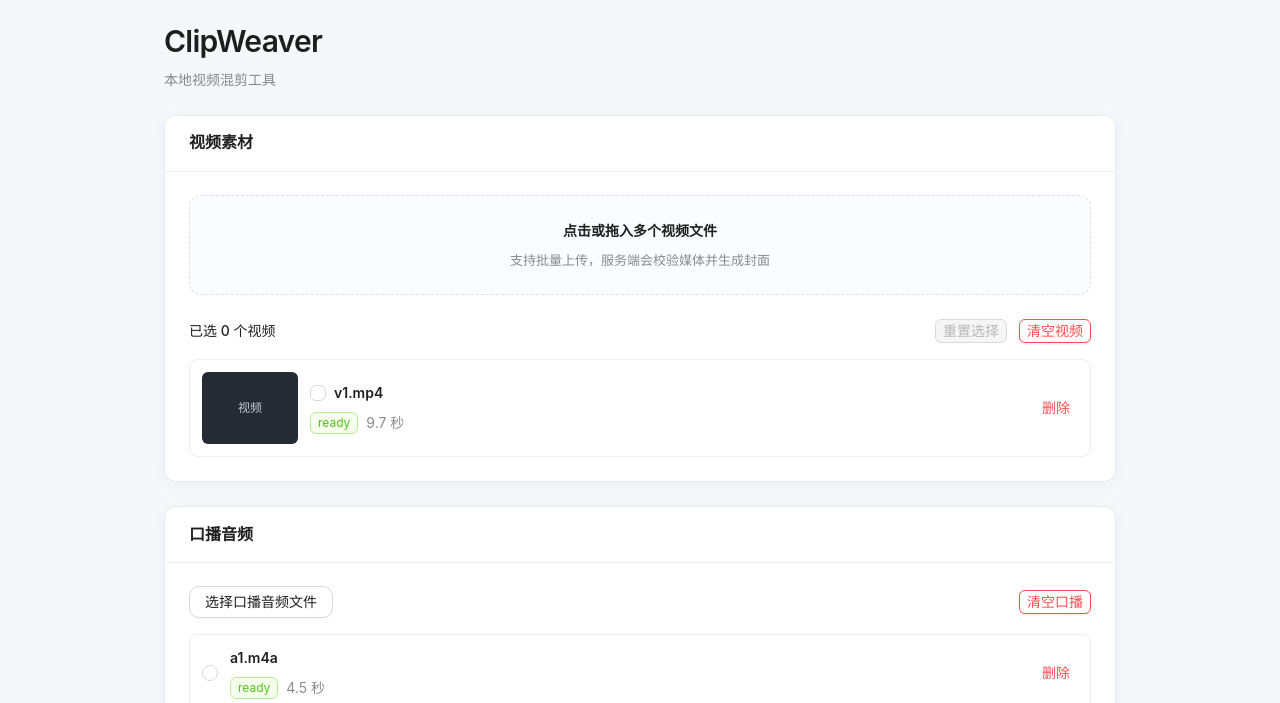
Test: deleting selected audio clears selection, mix result and mix error
This screenshot has width=1280, height=703.
Click the checkbox named "选择视频 v1.mp4". click: (318, 393)
box: [310,382,326,404]
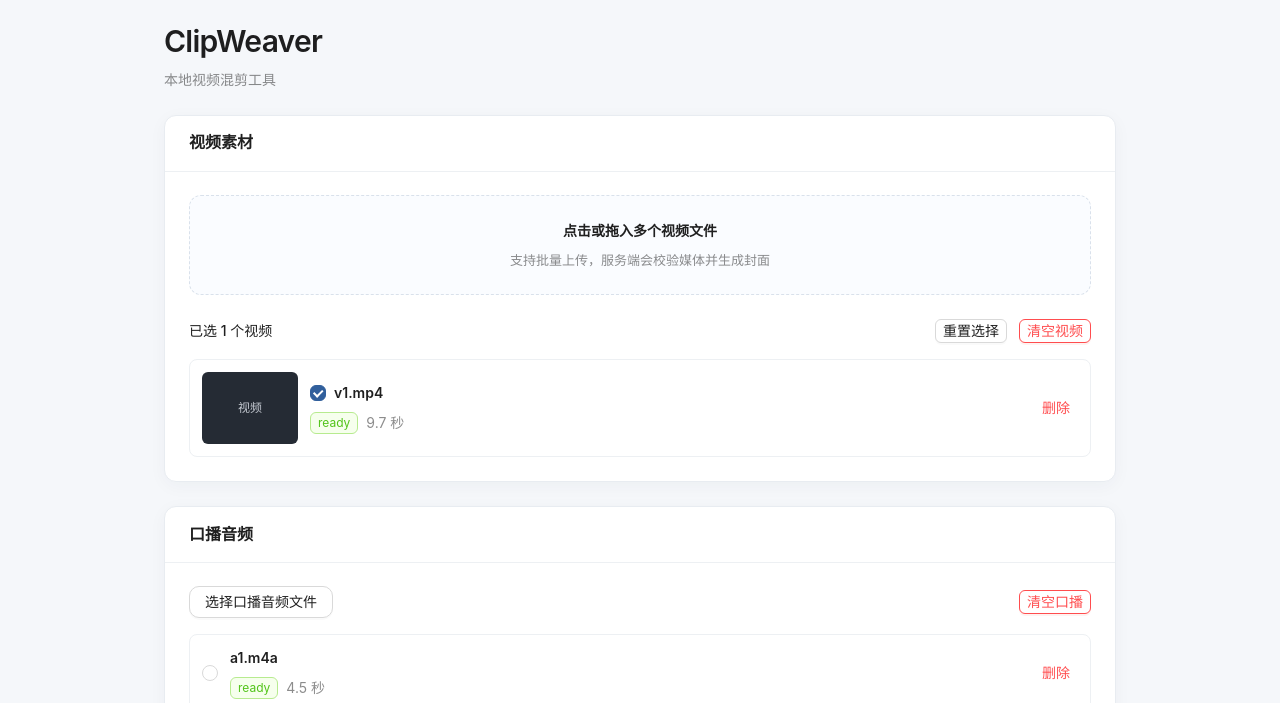
Click the radio button named "选择口播 a1.m4a". click: (210, 673)
box: [202,662,218,684]
(page scrolled)
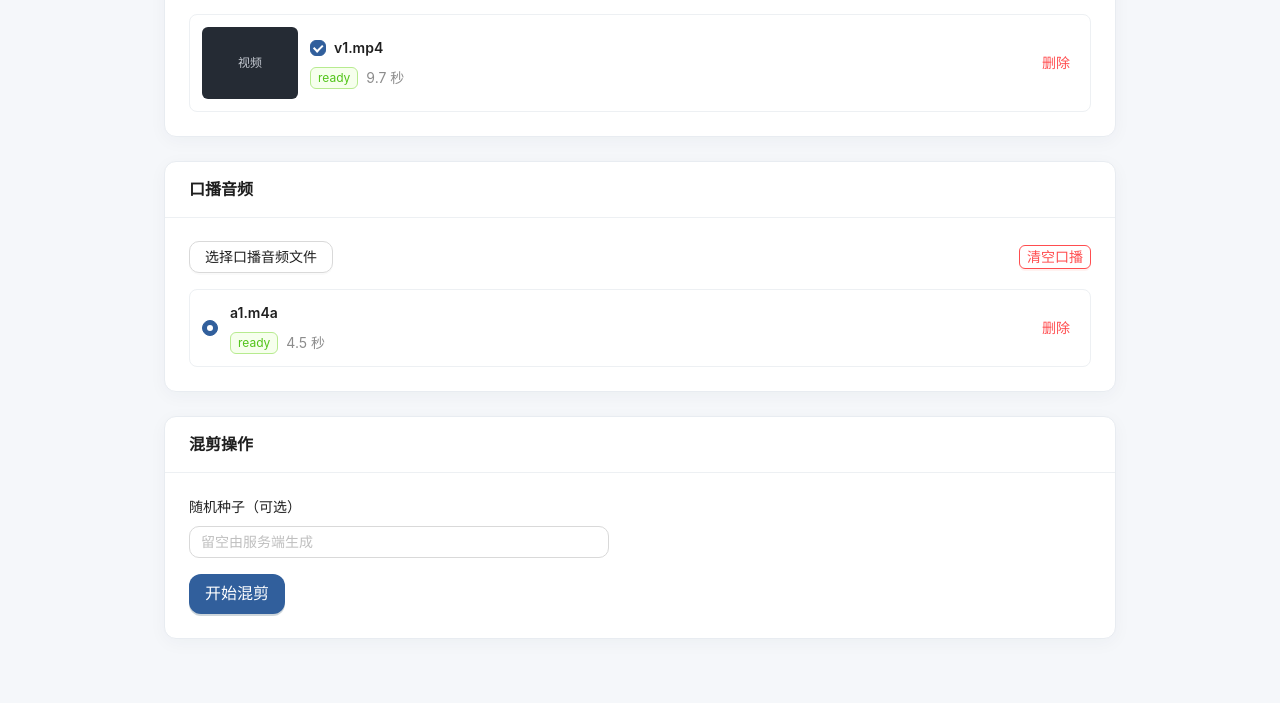
Click the button "开始混剪". click: (237, 594)
box: [189,574,285,614]
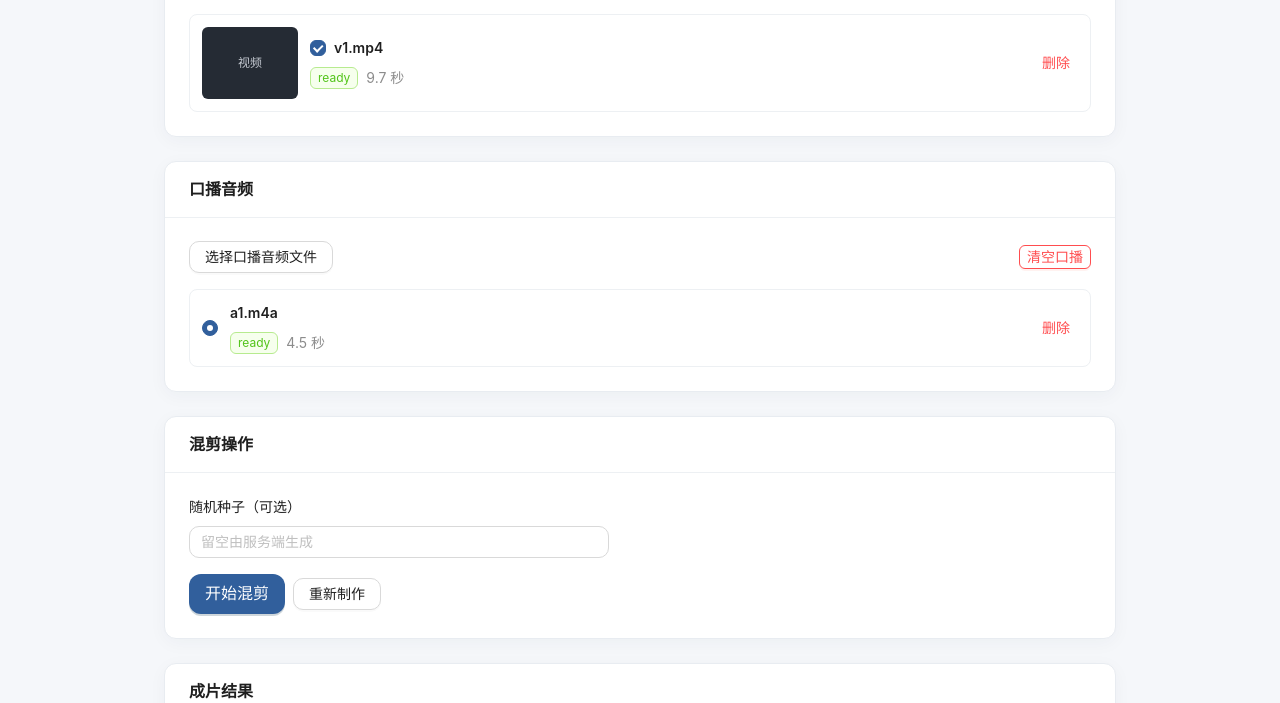
Click the button "重新制作". click: (337, 594)
box: [293,578,381,610]
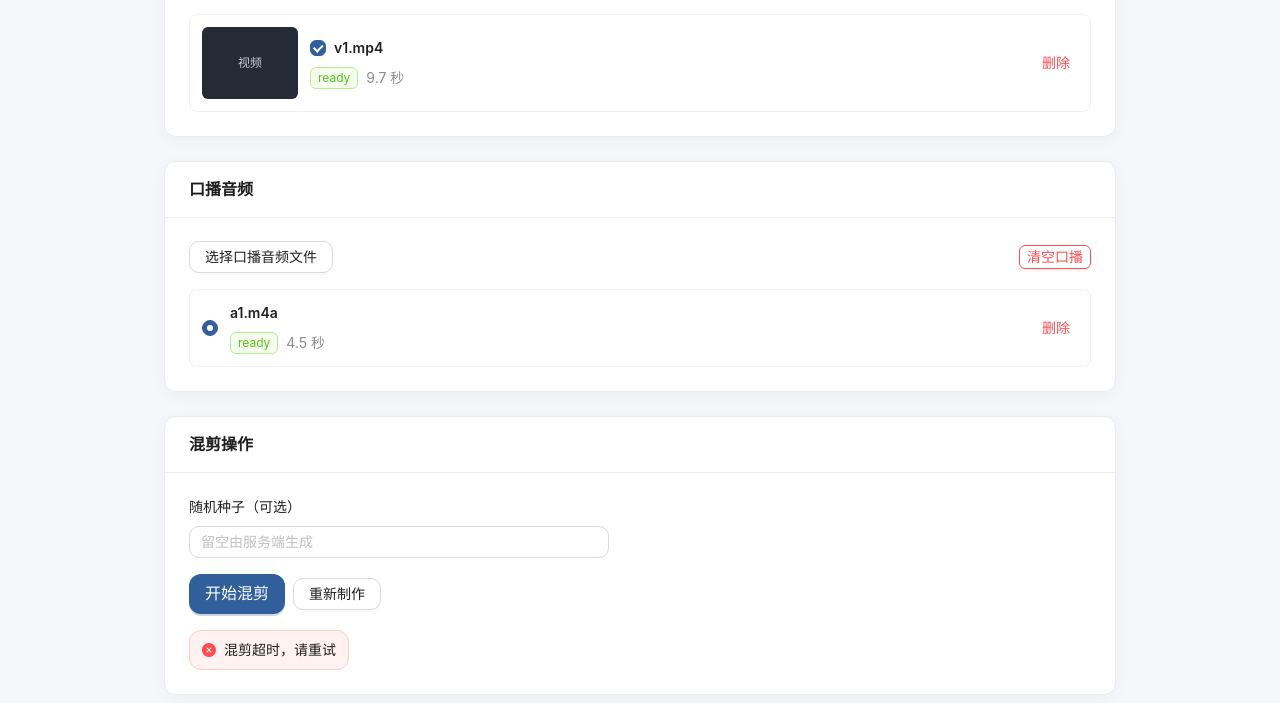
Expected: the text "混剪超时，请重试" is shown, [224,639,336,661]
Click the button with aria-label "删除口播 a1.m4a". click: (1056, 328)
box: [1034,316,1078,340]
(page scrolled)
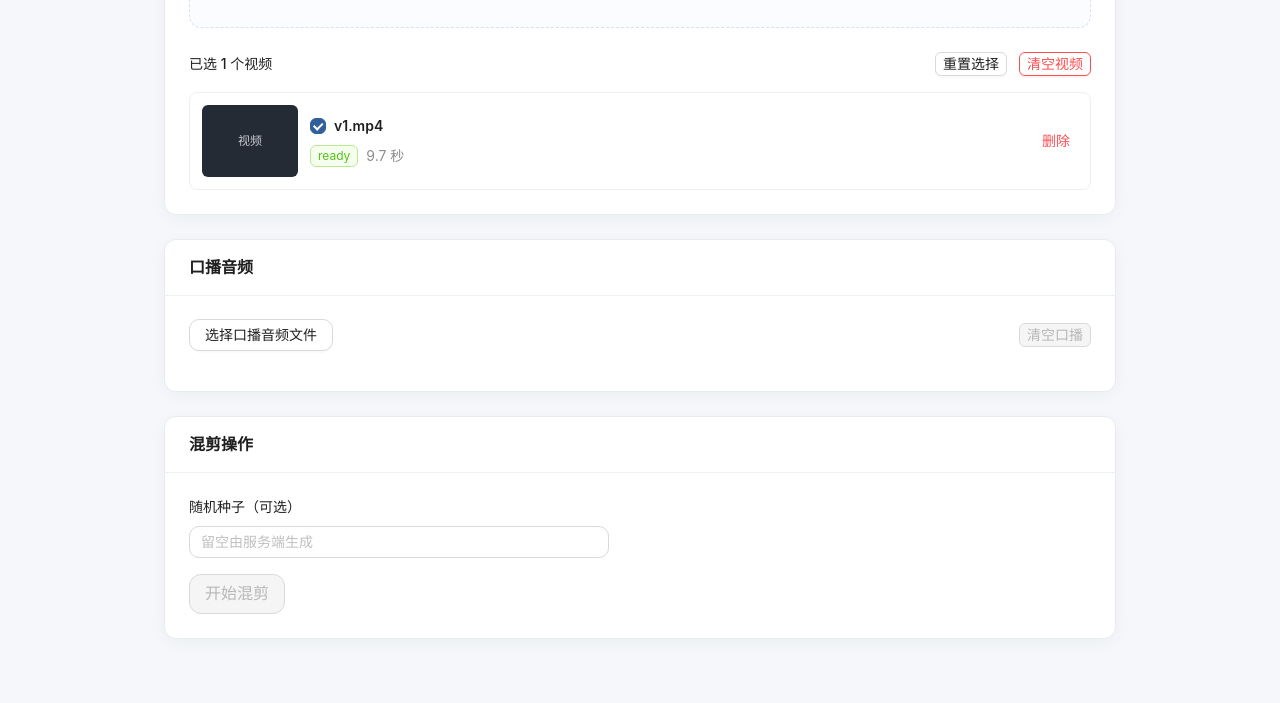
Expected: the text "混剪超时，请重试" is gone
Expected: the button "开始混剪" is disabled, [189,574,285,614]
